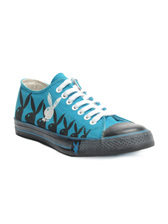shoes: (11, 76, 161, 159)
